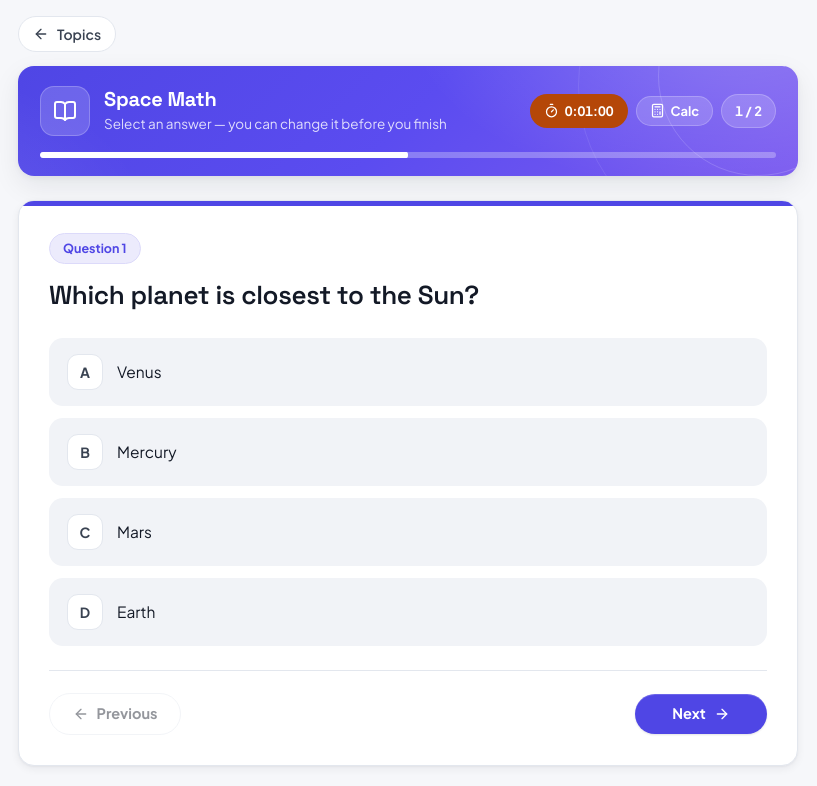
Scenario: QuizScreen › moves to the next question and updates the count
The width and height of the screenshot is (817, 786).
Expected: the text "1 / 2" is shown, [721,94,776,128]
Click the button "Next" at {"x": 701, "y": 714}, box [635,694,767,734]
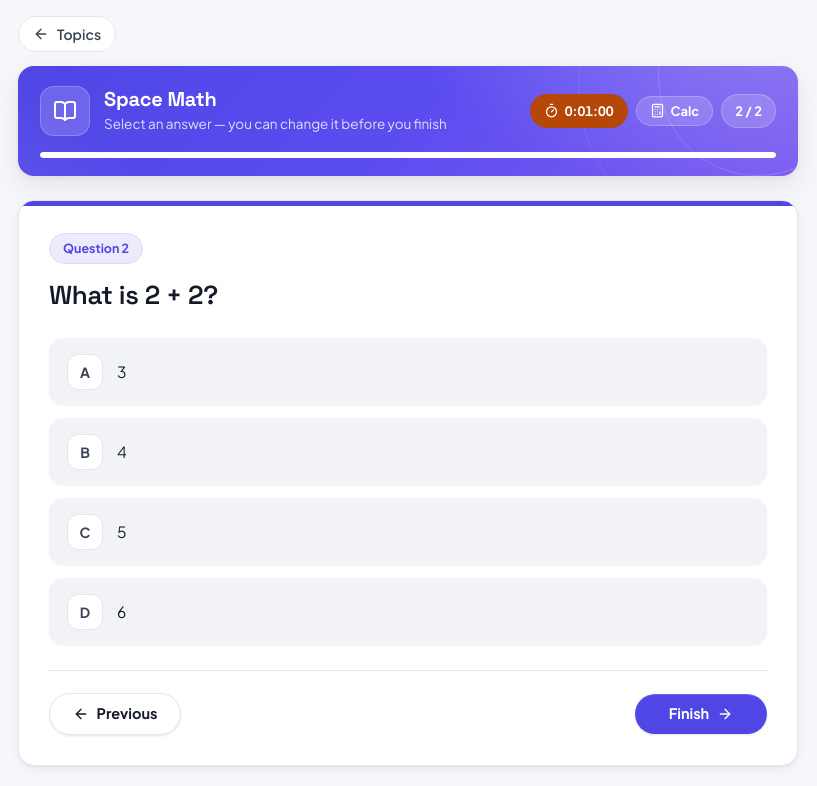
Now the heading "What is 2 + 2?" is shown, box [49,278,218,312]
Now the text "2 / 2" is shown, box [721,94,776,128]
